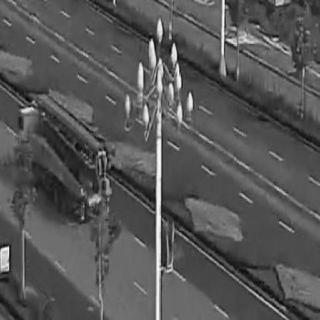other: (40, 116, 114, 170)
